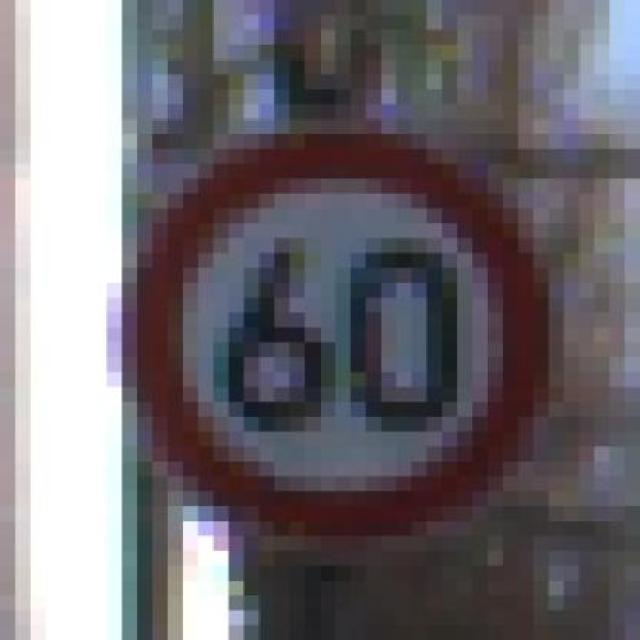forb_speed_over_60: (135, 130, 546, 535)
